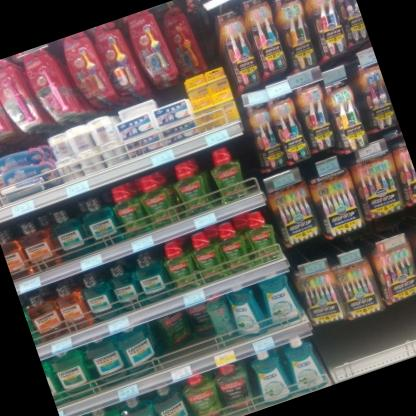empty_space: (316, 318, 367, 384), (351, 308, 401, 373), (167, 332, 219, 363), (390, 297, 416, 355)
